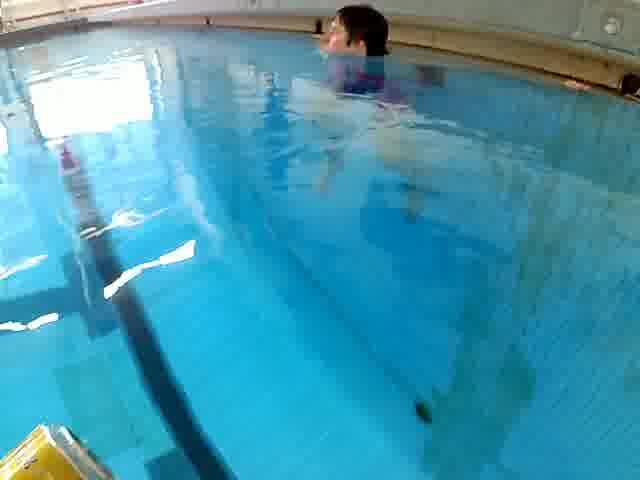Can: (0, 413, 128, 480)
